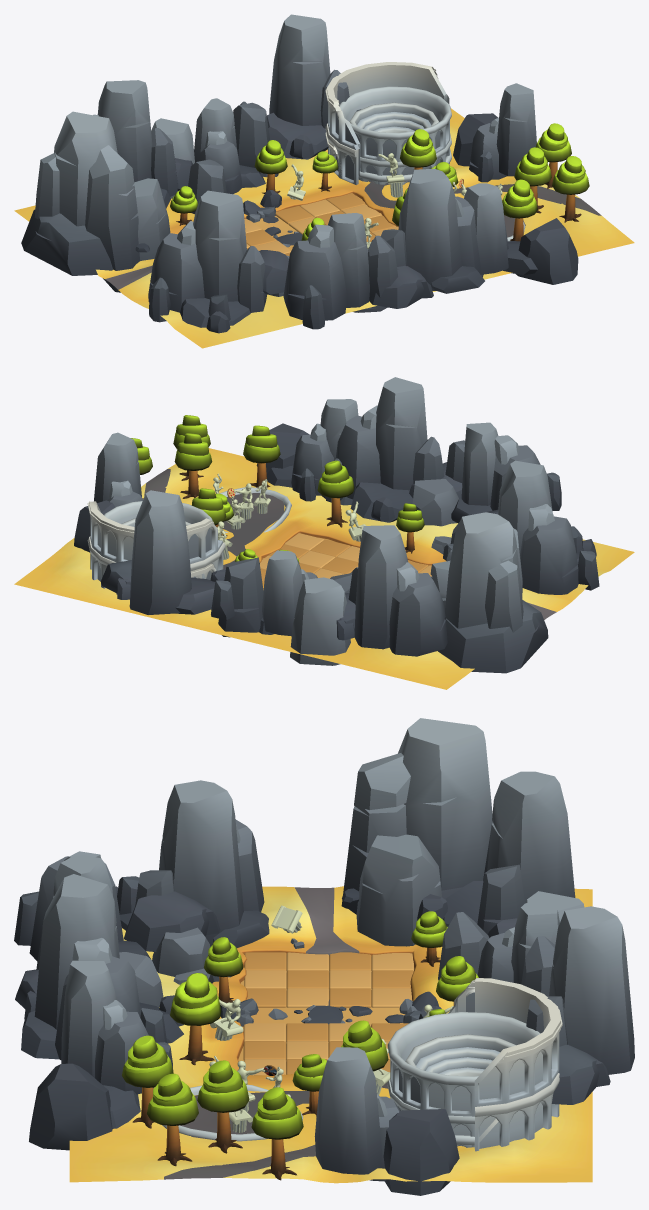
File: Rome_scence.fbx
3 renders of one model, top to bottom at view 1: azimuth 30°, elevation 25°; view 2: azimuth 150°, elevation 25°; view 3: azimuth 270°, elevation 25°, orthographic. The views are drawn at different scales.
Parts seen in each view (by area): view 1: big_rock_017, Coliseum, battle_ground, cluster_01, cluster_02, cluster_03, Coliseum_base; view 2: big_rock_017, Coliseum, battle_ground, cluster_01, cluster_02, Statues; view 3: big_rock_017, Coliseum, battle_ground, cluster_01, cluster_02, cluster_03, Plane002.
Boxes of the visible parts, bbox=[...] form: big_rock_017: bbox=[14, 14, 634, 348]; Coliseum: bbox=[325, 62, 451, 184]; battle_ground: bbox=[244, 193, 398, 256]; cluster_01: bbox=[312, 129, 458, 225]; cluster_02: bbox=[254, 140, 378, 243]; cluster_03: bbox=[170, 186, 197, 225]; Coliseum_base: bbox=[325, 132, 451, 184]; big_rock_017: bbox=[14, 377, 634, 689]; Coliseum: bbox=[87, 501, 225, 594]; battle_ground: bbox=[260, 533, 431, 582]; cluster_01: bbox=[191, 460, 354, 563]; cluster_02: bbox=[279, 501, 424, 568]; Statues: bbox=[213, 473, 270, 529]; big_rock_017: bbox=[14, 718, 634, 1195]; Coliseum: bbox=[387, 978, 562, 1151]; battle_ground: bbox=[243, 952, 414, 1075]; cluster_01: bbox=[170, 973, 445, 1117]; cluster_02: bbox=[204, 937, 478, 1028]; cluster_03: bbox=[173, 911, 447, 984]; Plane002: bbox=[238, 967, 405, 1061].
Size of the model in its own units: 1902 by 583 by 1552.
